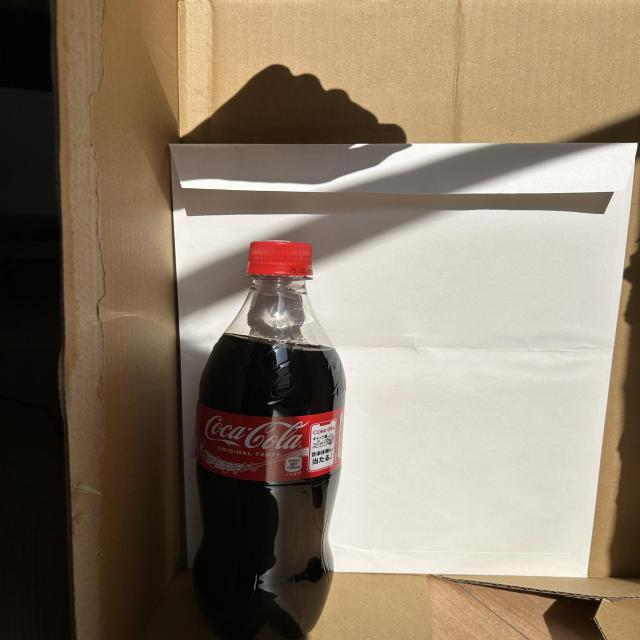high: (193, 241, 345, 640)
